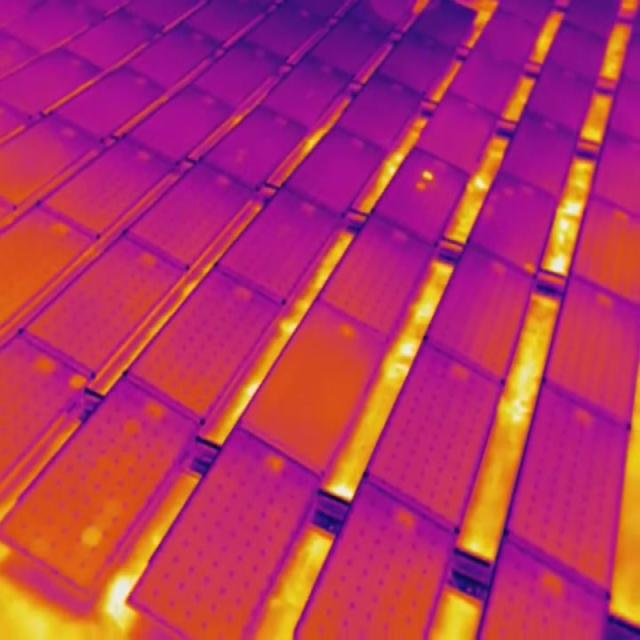Orange-Spots: (79, 519, 104, 549), (66, 368, 87, 391), (420, 168, 436, 182), (414, 180, 429, 190), (524, 264, 536, 272)
